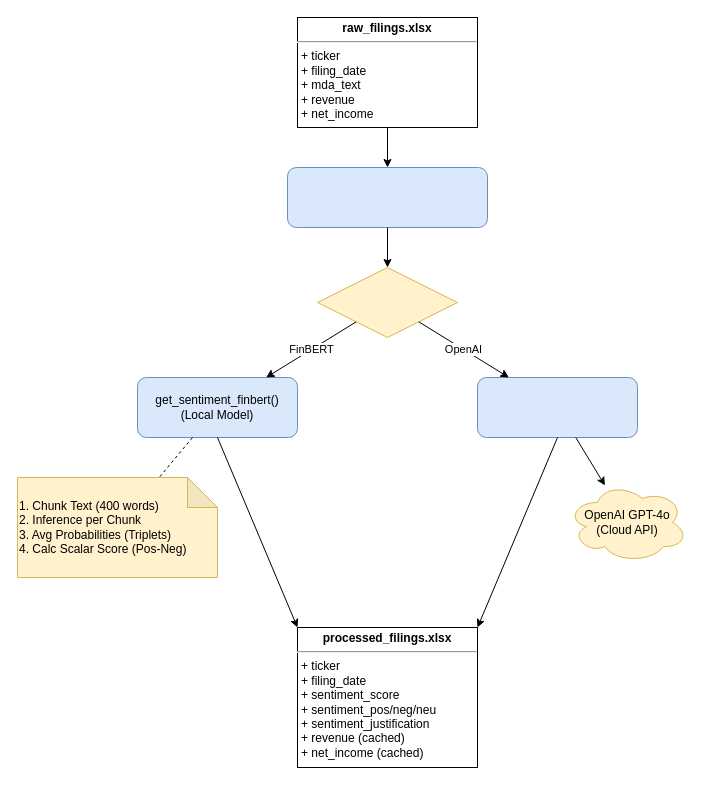
This 705x785 diagram has some shape labels left out. The shapes that lost their labels are listed below. From the top down, each one's box as (x1, y1, x2, y2) in pixels, then its label:
(286, 166, 488, 228): process_filings_for_sentiment() (Orchestrator)
(316, 266, 458, 338): NLP Method?
(476, 376, 638, 438): get_sentiment_openai() (API Model)
